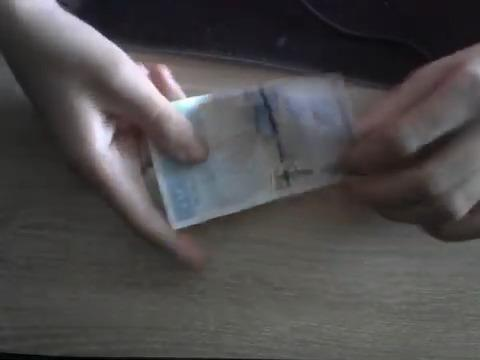20leva: (49, 74, 357, 243)
